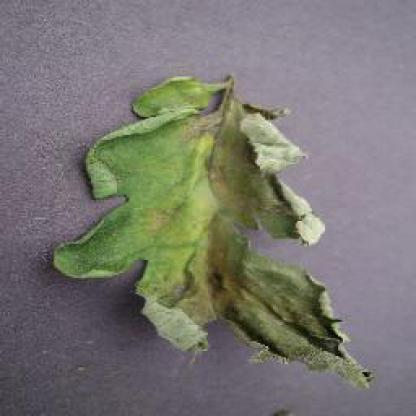bad leaf: (39, 44, 373, 394), (179, 212, 376, 406)
